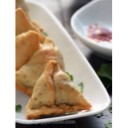samosa: (26, 59, 91, 115), (18, 48, 59, 94), (16, 6, 43, 60)
